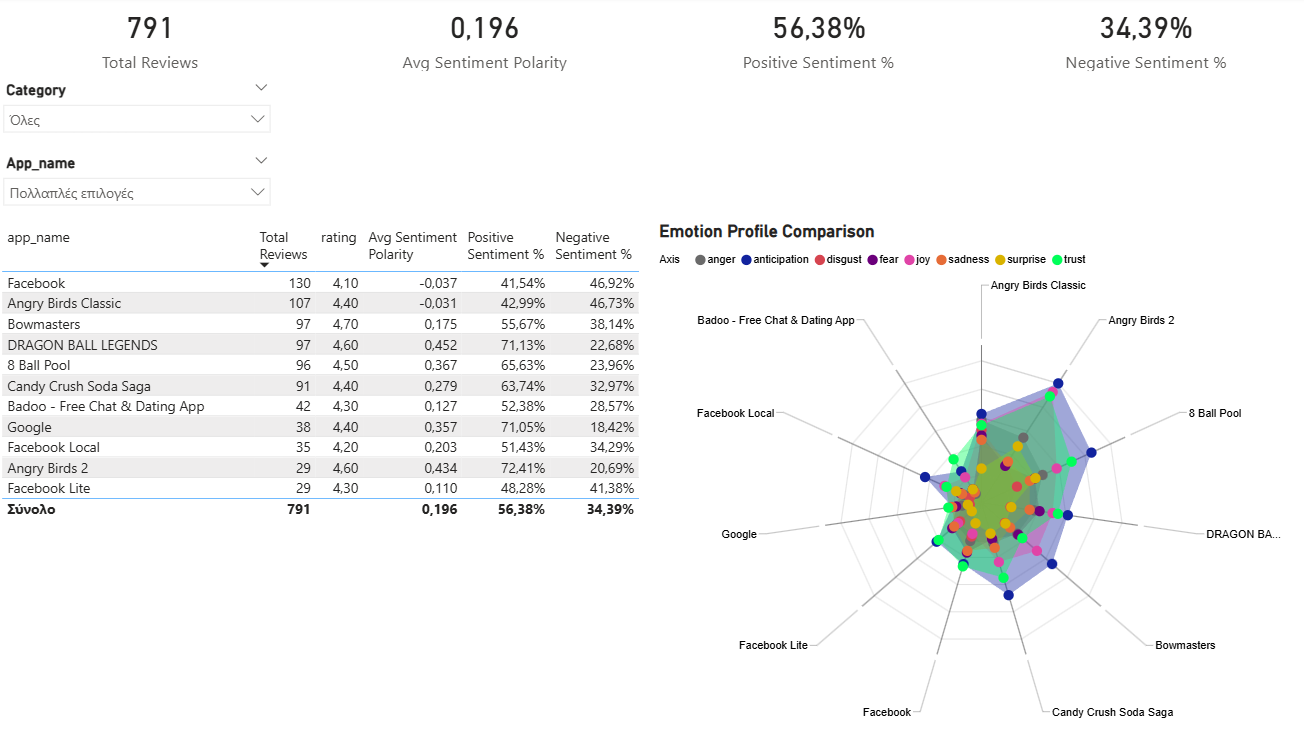

What the dashboard file says about the page in this screenshot:
{"tool":"powerbi","page":{"name":"Comparative Analytics","canvas":[1280,720],"ordinal":3},"visuals":[{"type":"slicer","fields":{"Values":["playstore_dw dim_apps.category"]},"box":[0,76.8,280.1,71],"z":0},{"type":"card","fields":{"Values":["_Measures.Total Reviews"]},"box":[0,0,305.7,77.1],"z":1000},{"type":"card","fields":{"Values":["_Measures.Avg Sentiment Polarity"]},"box":[315.7,0,324.3,77.1],"z":2000},{"type":"card","fields":{"Values":["_Measures.Positive Sentiment %"]},"box":[642.9,0,320,77.1],"z":3000},{"type":"card","fields":{"Values":["_Measures.Negative Sentiment %"]},"box":[962.9,0,317.1,77.1],"z":4000},{"type":"slicer","fields":{"Values":["playstore_dw dim_apps.app_name"]},"box":[0,147.8,280.1,70],"z":5000},{"type":"tableEx","fields":{"Values":["playstore_dw dim_apps.app_name","_Measures.Total Reviews","playstore_dw dim_apps.rating","_Measures.Avg Sentiment Polarity","_Measures.Positive Sentiment %","_Measures.Negative Sentiment %"]},"box":[2.9,217.9,640,501.9],"z":6000},{"type":"RadarChart1446119667547","title":"Emotion Profile Comparison","fields":{"Category":["playstore_dw dim_apps.app_name"],"Y":["Avg(playstore_dw fact_reviews.anger)","Avg(playstore_dw fact_reviews.anticipation)","Avg(playstore_dw fact_reviews.disgust)","Avg(playstore_dw fact_reviews.fear)","Avg(playstore_dw fact_reviews.joy)","Avg(playstore_dw fact_reviews.sadness)","Avg(playstore_dw fact_reviews.surprise)","Avg(playstore_dw fact_reviews.trust)"]},"box":[642.9,217.9,637.1,501.9],"z":7000}]}

Visuals, with their boxes in screenshot pixels (x1, y1, x2, y2), scaled from the page's 1280x720 canvas onto the 1304x732 screenshot:
slicer - playstore_dw dim_apps.category: BBox(0, 78, 285, 150)
card - _Measures.Total Reviews: BBox(0, 0, 311, 78)
card - _Measures.Avg Sentiment Polarity: BBox(322, 0, 652, 78)
card - _Measures.Positive Sentiment %: BBox(655, 0, 981, 78)
card - _Measures.Negative Sentiment %: BBox(981, 0, 1303, 78)
slicer - playstore_dw dim_apps.app_name: BBox(0, 150, 285, 221)
tableEx - playstore_dw dim_apps.app_name x _Measures.Total Reviews: BBox(3, 222, 655, 731)
"Emotion Profile Comparison" RadarChart1446119667547: BBox(655, 222, 1303, 731)
